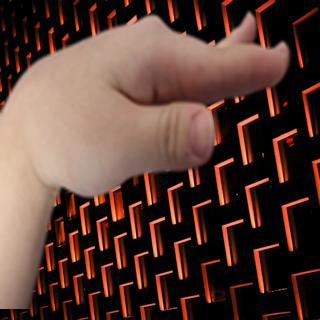Wait: (0, 8, 296, 194)
